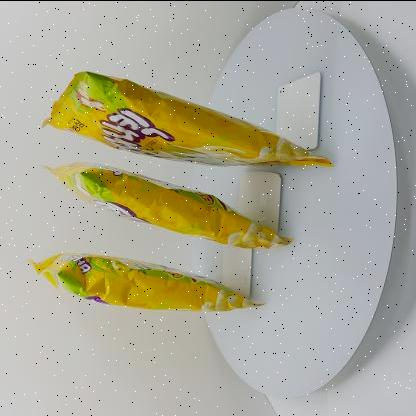Others: (22, 64, 342, 320)
